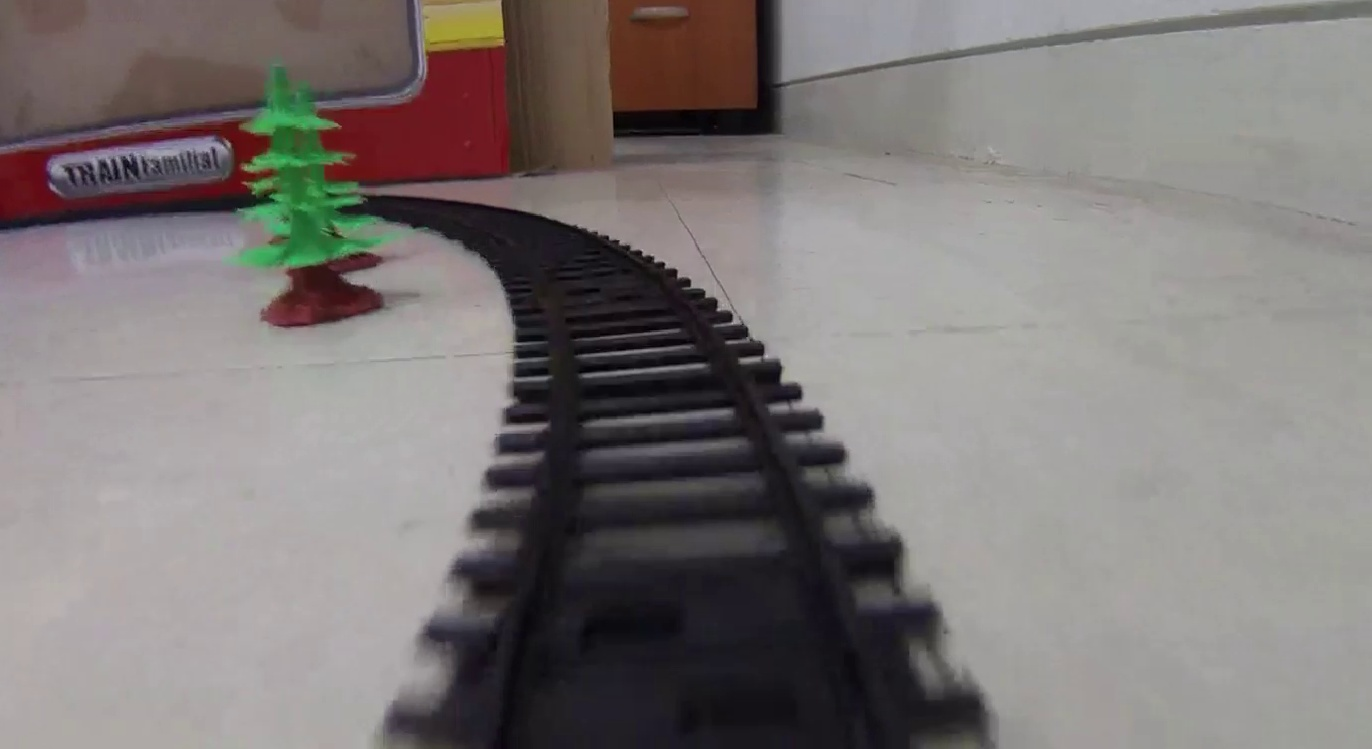tree: (235, 64, 385, 326)
